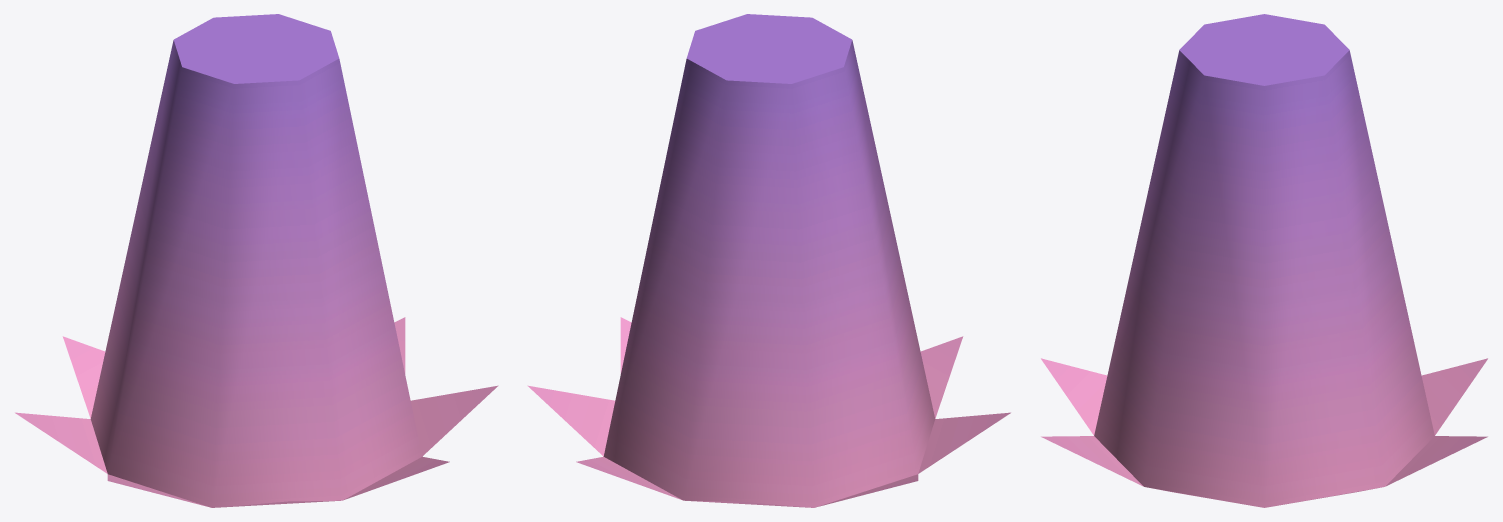
The model's file is kenney-tower-defense-enemy-ufo-beam-burst.glb.
The picture shows the model from 3 angles, left to right: view 1: azimuth 30°, elevation 25°; view 2: azimuth 150°, elevation 25°; view 3: azimuth 270°, elevation 25°; orthographic projection.
Visible parts, largest first — view 1: enemy-ufo-beam-burst; view 2: enemy-ufo-beam-burst; view 3: enemy-ufo-beam-burst.
Part boxes in pixels (x1,y1,x2,y2): enemy-ufo-beam-burst: (15,14,498,507); enemy-ufo-beam-burst: (527,14,1010,507); enemy-ufo-beam-burst: (1041,14,1487,507).
Bounding box in the file's own units: 1.05 × 1 × 1.05.
1 material, 1 textured.
